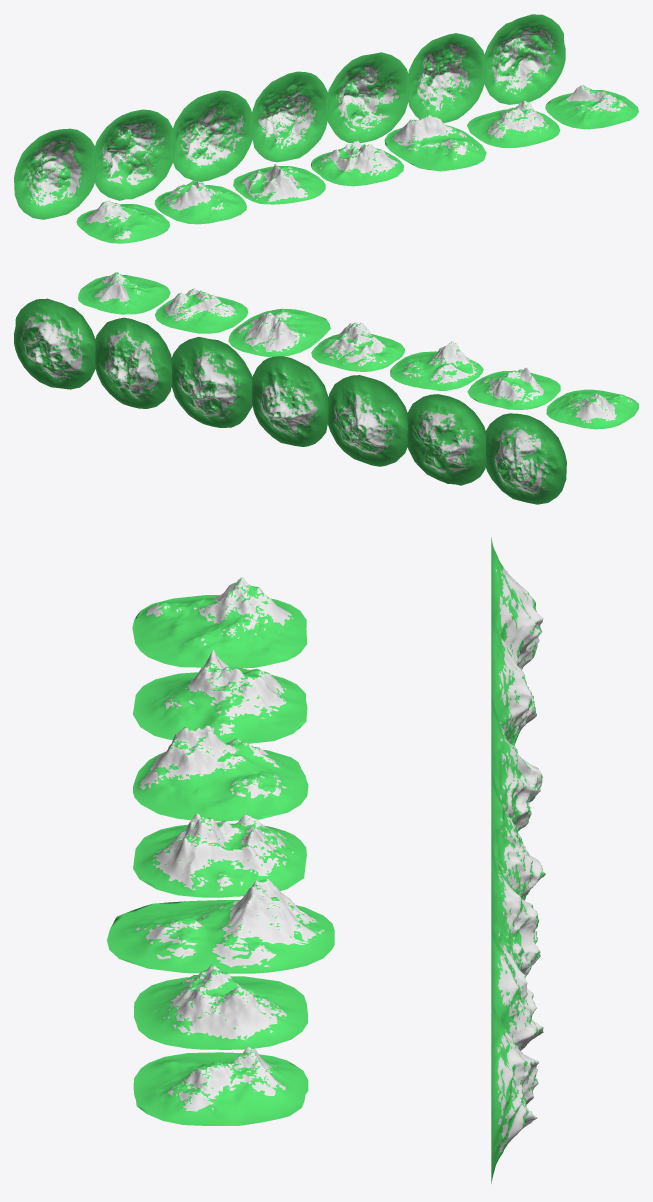
The model's file is Mountains.fbx.
The picture shows the model from 3 angles, top to bottom: view 1: azimuth 30°, elevation 25°; view 2: azimuth 150°, elevation 25°; view 3: azimuth 270°, elevation 25°; orthographic projection. The views are drawn at different scales.
Parts seen in each view (by area): view 1: Forest Mountain 3, Forest Mountain 5, Forest Mountain 4, Forest Mountain 6, Forest Mountain 1, Forest Mountain 7, Forest Mountain 2, Mountain 6, Mountain 7, Mountain 5, Mountain 1, Mountain 2 (+2 smaller); view 2: Forest Mountain 3, Forest Mountain 1, Forest Mountain 5, Forest Mountain 6, Forest Mountain 4, Forest Mountain 2, Forest Mountain 7, Mountain 6, Mountain 7, Mountain 3, Mountain 5, Mountain 1 (+2 smaller); view 3: Mountain 6, Mountain 3, Mountain 1, Mountain 5, Mountain 4, Mountain 7, Mountain 2, Forest Mountain 1, Forest Mountain 3, Forest Mountain 5, Forest Mountain 2, Forest Mountain 6 (+2 smaller).
Boxes of the visible parts, x1,y1,x2,y2 form: Forest Mountain 3: [14, 128, 97, 219]; Forest Mountain 5: [326, 52, 409, 142]; Forest Mountain 4: [92, 109, 175, 200]; Forest Mountain 6: [170, 90, 253, 181]; Forest Mountain 1: [483, 14, 565, 104]; Forest Mountain 7: [250, 71, 329, 162]; Forest Mountain 2: [406, 33, 485, 122]; Mountain 6: [384, 115, 486, 171]; Mountain 7: [311, 140, 403, 186]; Mountain 5: [467, 100, 560, 147]; Mountain 1: [76, 200, 169, 243]; Mountain 2: [154, 180, 246, 224]; Forest Mountain 3: [485, 413, 566, 504]; Forest Mountain 1: [14, 298, 95, 389]; Forest Mountain 5: [171, 337, 252, 427]; Forest Mountain 6: [328, 375, 407, 466]; Forest Mountain 4: [407, 394, 486, 485]; Forest Mountain 2: [95, 317, 171, 408]; Forest Mountain 7: [252, 356, 328, 446]; Mountain 6: [228, 308, 330, 356]; Mountain 7: [311, 322, 404, 371]; Mountain 3: [390, 341, 483, 390]; Mountain 5: [155, 288, 248, 333]; Mountain 1: [546, 389, 638, 429]; Mountain 6: [107, 879, 334, 973]; Mountain 3: [133, 725, 308, 821]; Mountain 1: [132, 577, 307, 668]; Mountain 5: [134, 964, 307, 1049]; Mountain 4: [133, 1046, 308, 1125]; Mountain 7: [133, 813, 306, 897]; Mountain 2: [133, 650, 307, 743]; Forest Mountain 1: [491, 994, 538, 1183]; Forest Mountain 3: [491, 537, 543, 669]; Forest Mountain 5: [491, 842, 540, 975]; Forest Mountain 2: [491, 919, 543, 1050]; Forest Mountain 6: [491, 689, 542, 831].
Bounding box in the file's own units: 1413 × 216 × 487.
